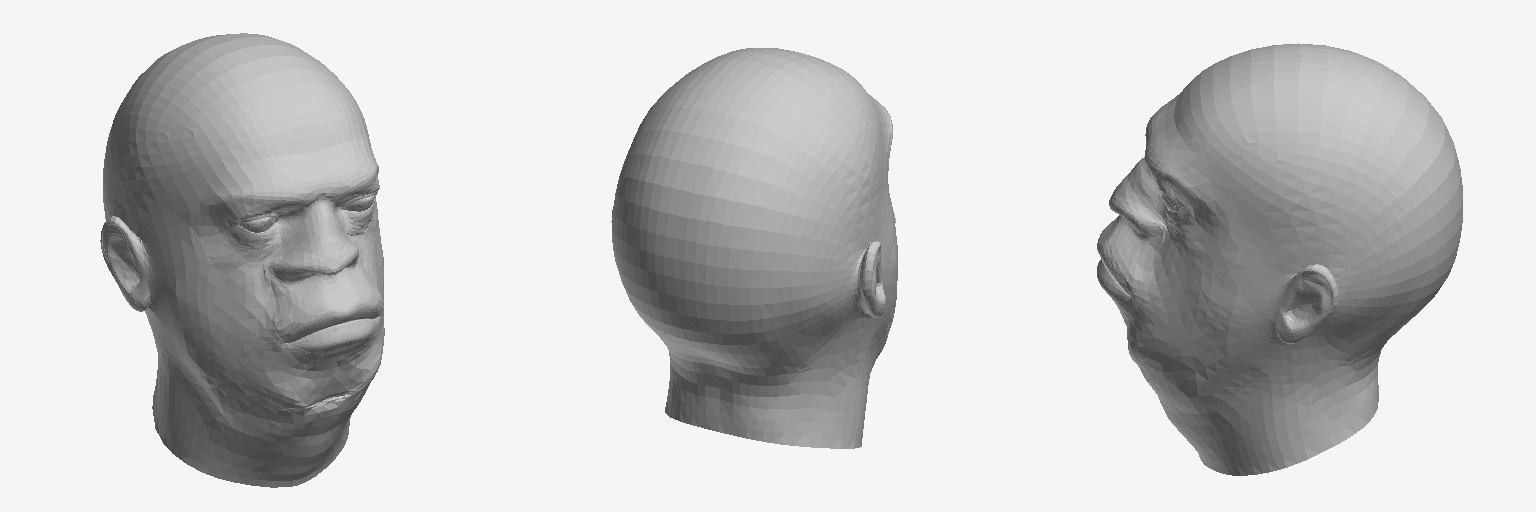
3 renders of one model, left to right at view 1: azimuth 30°, elevation 25°; view 2: azimuth 150°, elevation 25°; view 3: azimuth 270°, elevation 25°, orthographic.
Parts seen in each view (by area): view 1: FaceGen; view 2: FaceGen; view 3: FaceGen.
Boxes of the visible parts, <box> form: FaceGen: <box>100,33,384,487</box>; FaceGen: <box>611,48,897,448</box>; FaceGen: <box>1097,43,1462,475</box>.
Bounding box in the file's own units: 187 × 275 × 228.